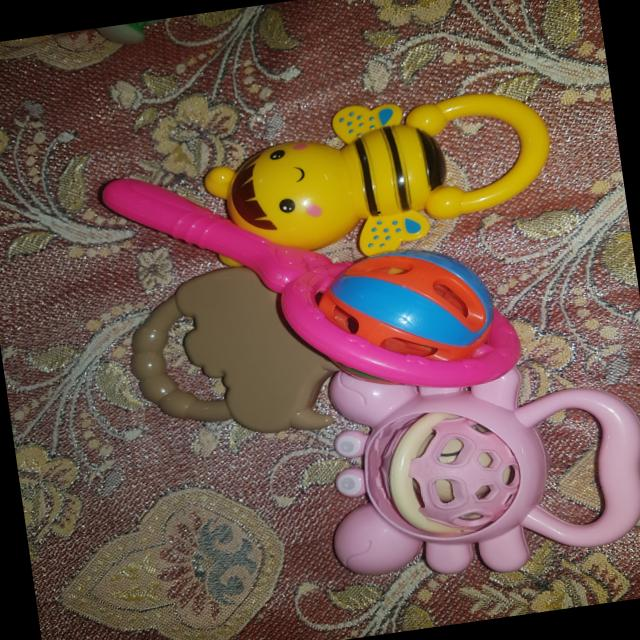general: (317, 320, 640, 595), (193, 78, 563, 280), (76, 258, 346, 461)
